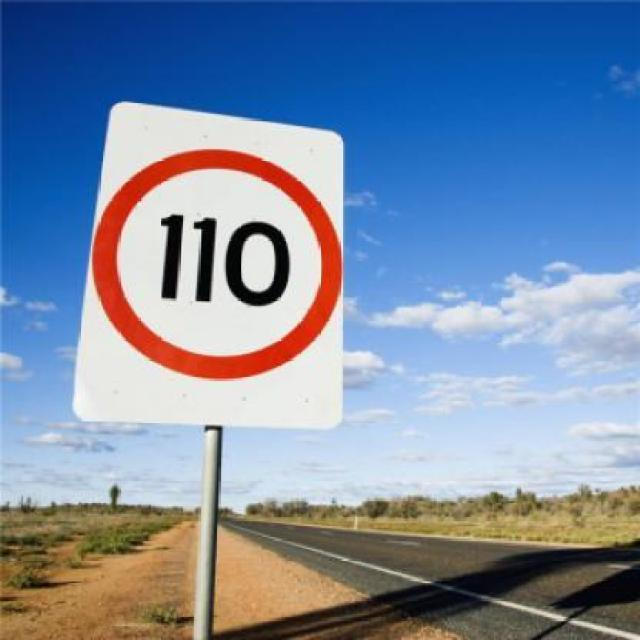speed limit 110: (89, 148, 343, 379)
